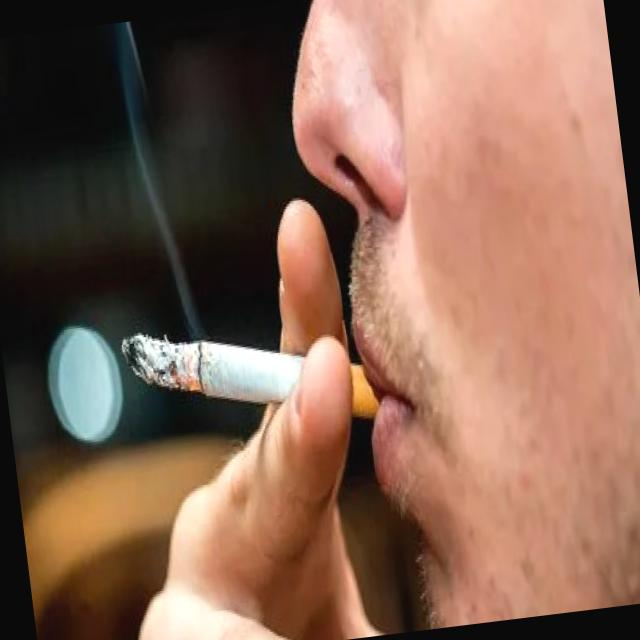smoke: (117, 296, 387, 461)
